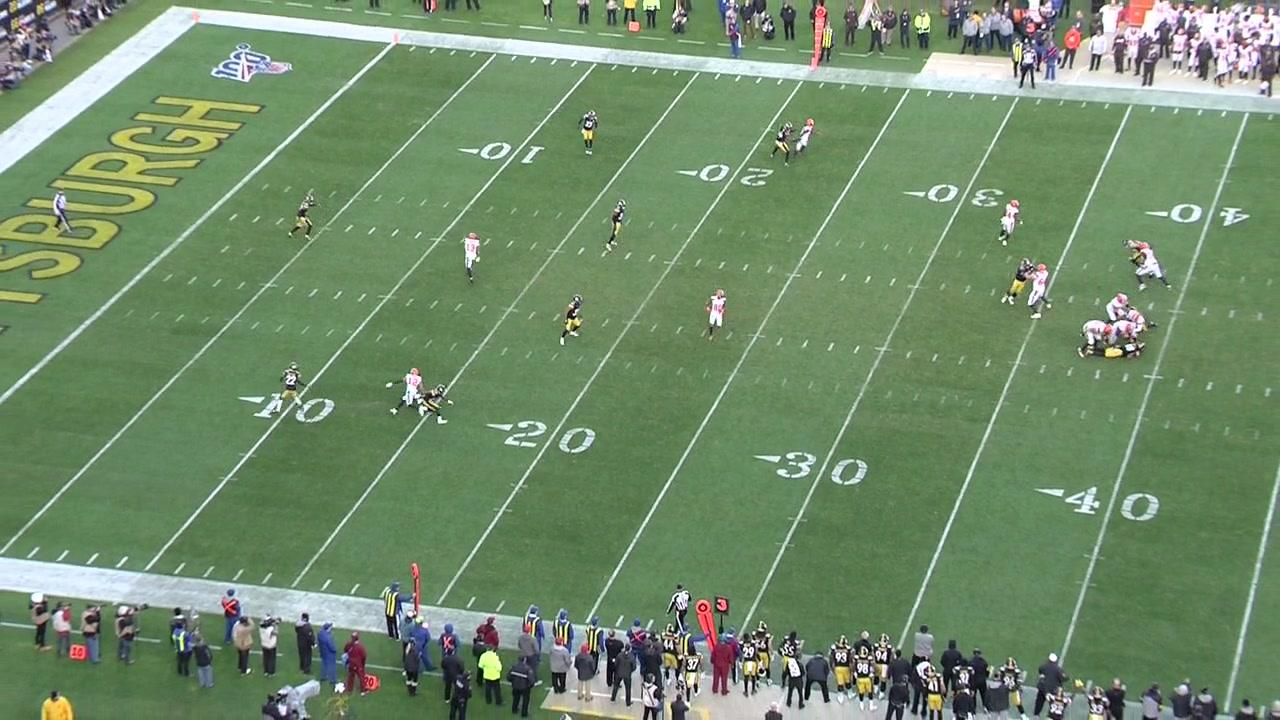defense: (1000, 257, 1039, 307), (414, 382, 456, 427), (274, 360, 308, 415), (287, 192, 320, 242), (768, 121, 802, 168), (1120, 238, 1155, 280), (559, 293, 585, 348), (1107, 309, 1160, 334), (605, 198, 628, 252), (1085, 341, 1147, 361), (578, 108, 599, 157)
oline: (1134, 241, 1173, 294), (1024, 263, 1054, 319), (1077, 319, 1113, 359), (1102, 319, 1137, 347), (1105, 292, 1134, 324)
qb: (1121, 309, 1145, 335)
ref: (663, 582, 695, 638), (51, 187, 75, 234), (1018, 43, 1039, 92)
skill: (384, 367, 427, 418), (996, 198, 1025, 249), (704, 288, 729, 343), (791, 117, 820, 163), (458, 232, 482, 285)
